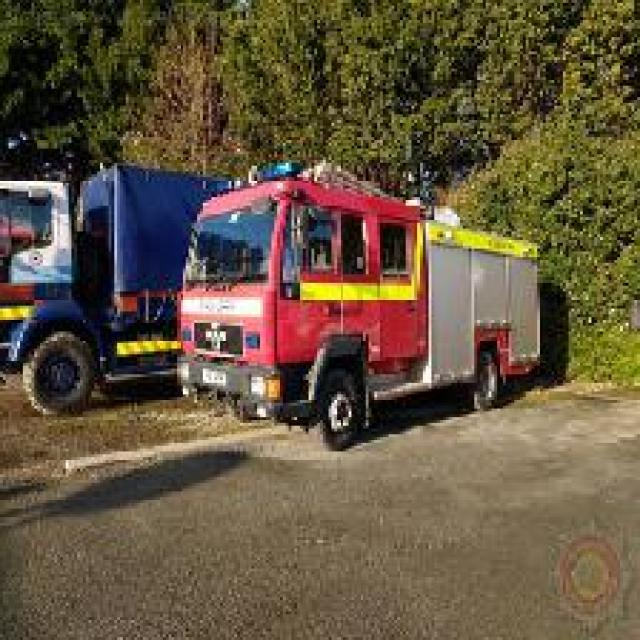Fire-truck: (171, 157, 543, 452), (0, 160, 246, 414)
